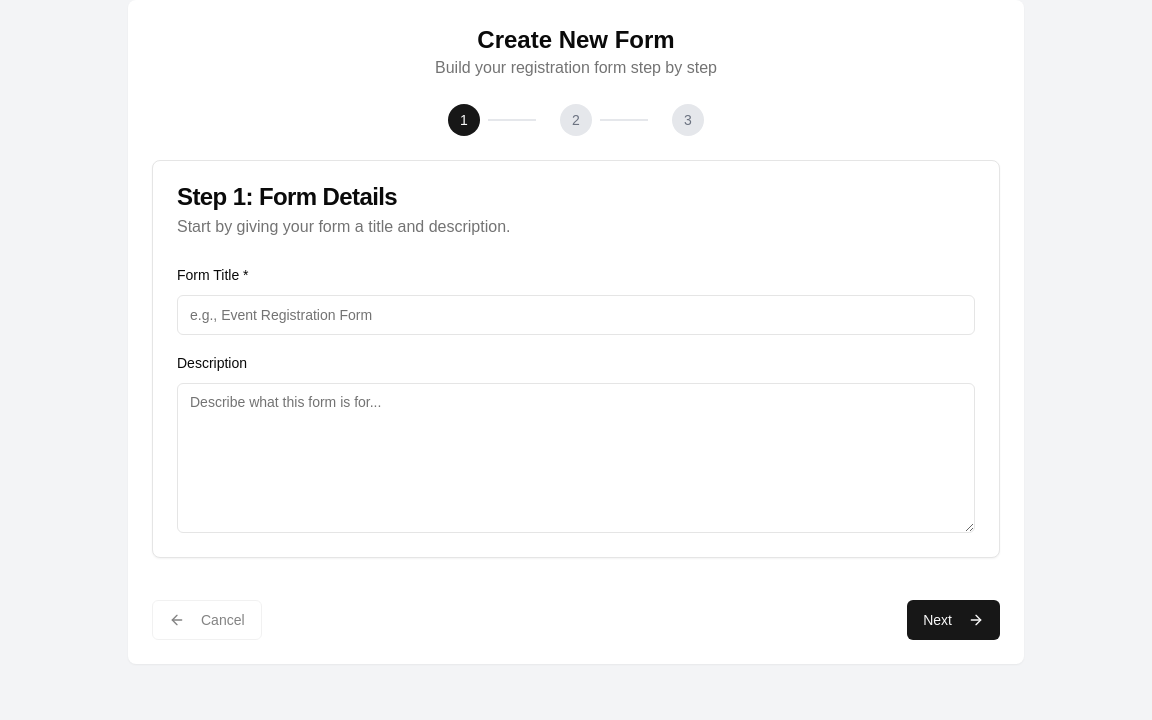
Test: SimplifiedFormBuilder › Form Validation › shows validation error for title less than 2 characters
Type "A" into the field labelled "Form Title *".
click(576, 315); type("A")  # box [177,295,975,335]
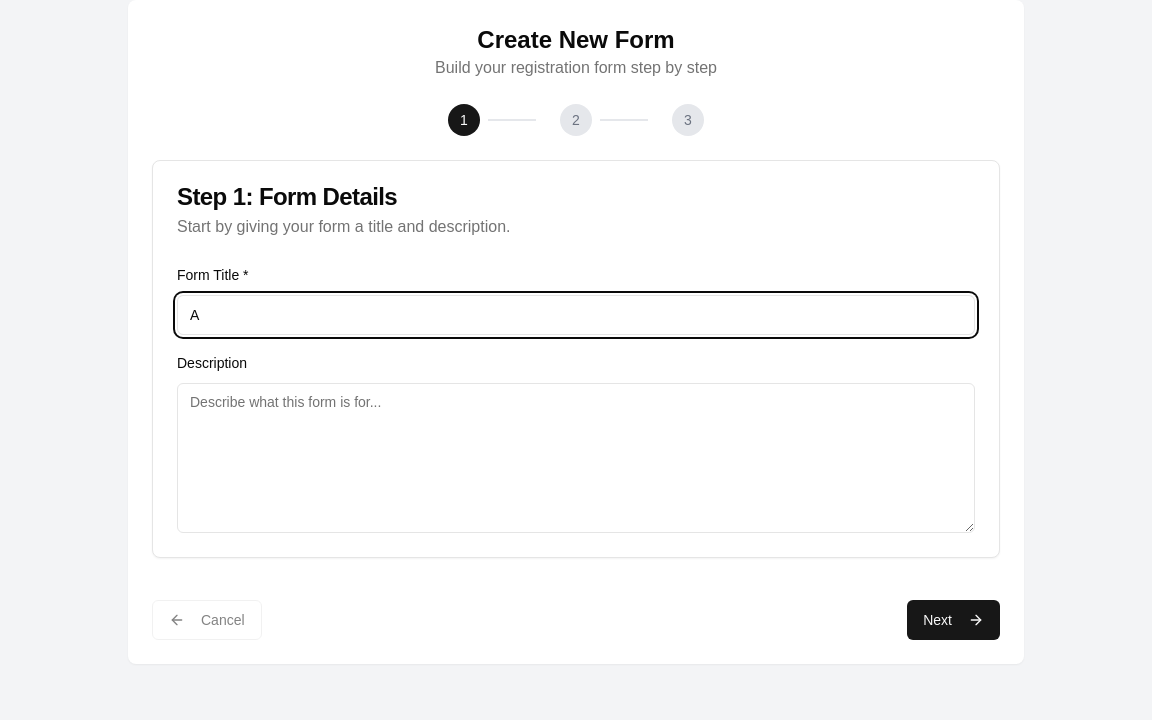
Click the button "Next".
click(954, 620)  # box [907,600,1000,640]
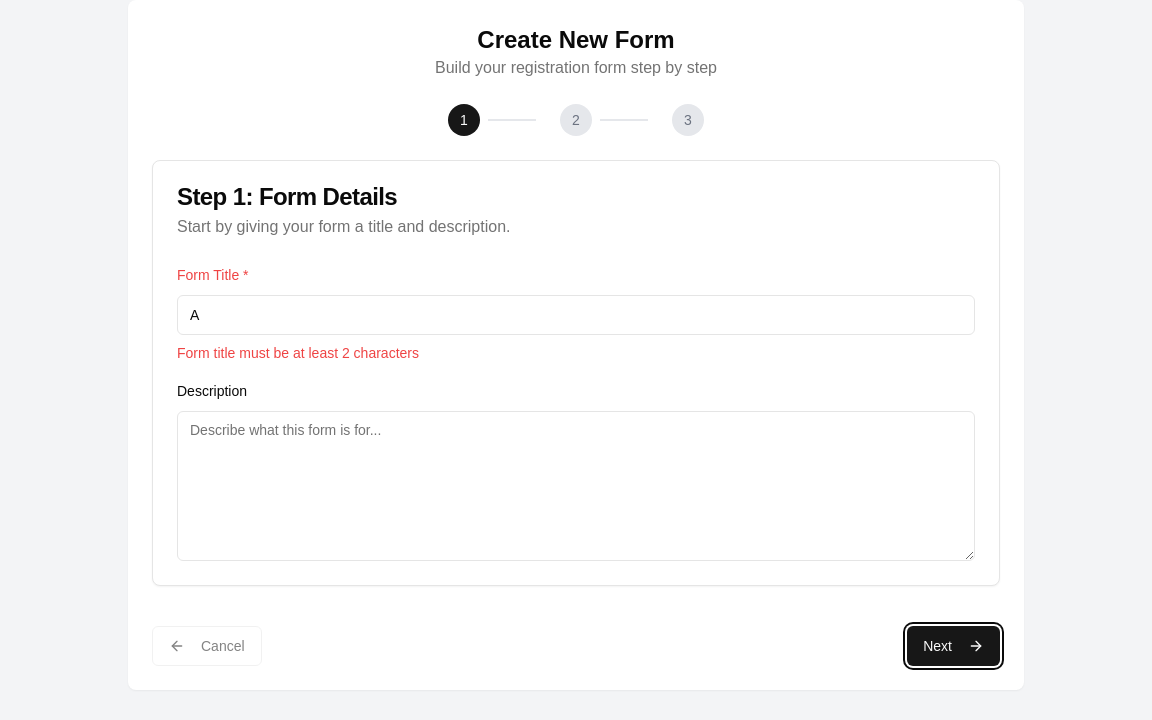
Result: the text "Form title must be at least 2 characters" is shown at [177,345,419,361]
